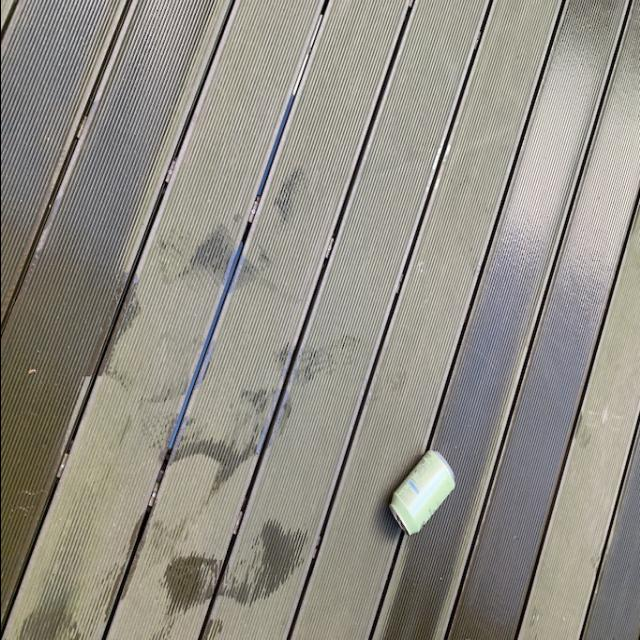Aluminum Can: (382, 450, 452, 542)
